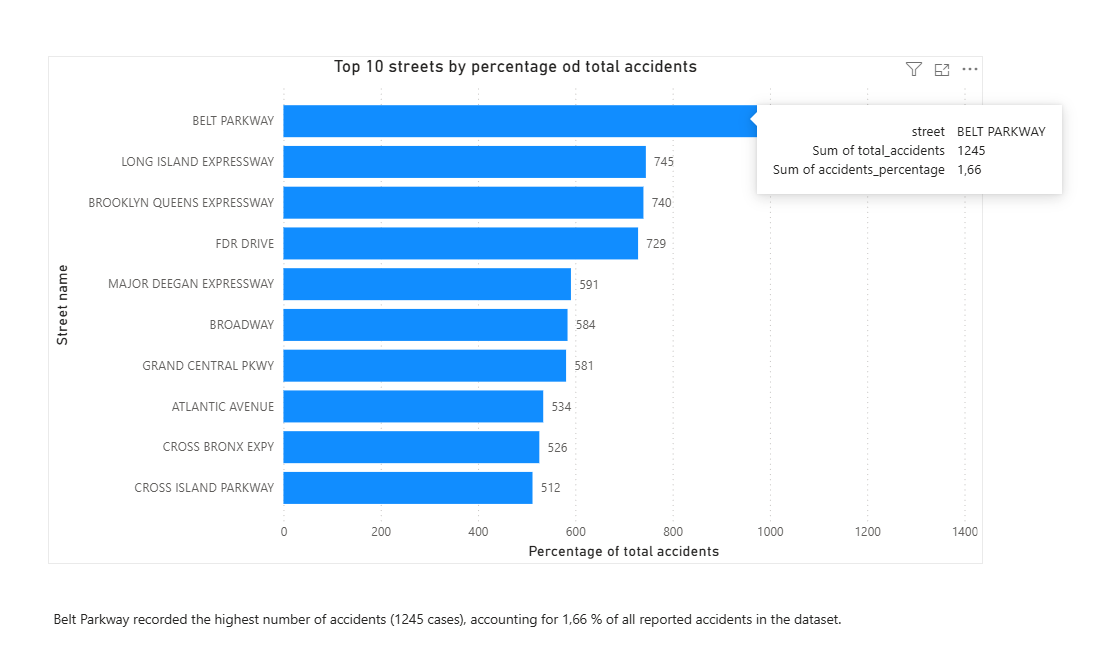

What the dashboard file says about the page in this screenshot:
{"tool":"powerbi","page":{"name":"REQ3","canvas":[1280,720],"ordinal":2},"visuals":[{"type":"clusteredBarChart","title":"Top 10 streets by percentage od total accidents","fields":{"Category":["vw_top_10_accident_street.street"],"Y":["Sum(vw_top_10_accident_street.total_accidents)"]},"box":[184.8,112.8,909.4,494.1],"z":0},{"type":"textbox","box":[184.8,645.8,901.6,53.5],"z":1000}]}

Visuals, with their boxes on the page's 1280x720 design canvas (x1, y1, x2, y2). These are canvas units, not pixel positions in the 1112x671 screenshot, which may show the page scaled, cropped or inside an application window:
"Top 10 streets by percentage od total accidents" clusteredBarChart: rect(185, 113, 1094, 607)
textbox: rect(185, 646, 1086, 699)
